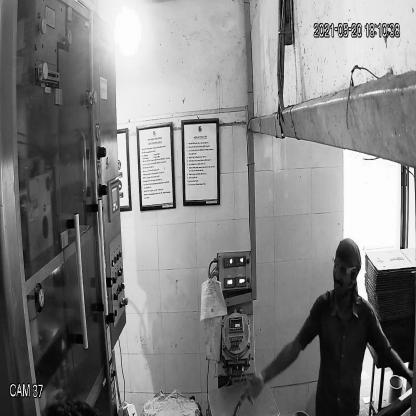goggles: (332, 257, 359, 279)
